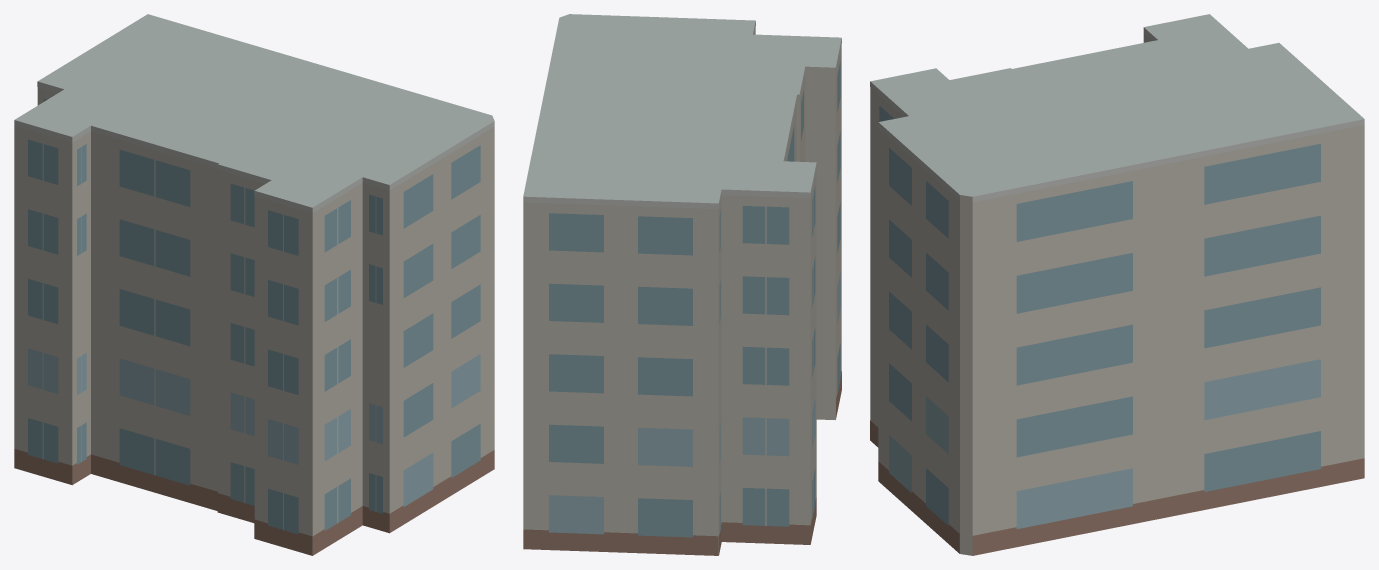
The model's file is survey-upis-32613631.glb.
The picture shows the model from 3 angles, left to right: view 1: azimuth 30°, elevation 25°; view 2: azimuth 150°, elevation 25°; view 3: azimuth 270°, elevation 25°; orthographic projection. The views are drawn at different scales.
Visible parts, largest first — view 1: survey-upis-32613631.tmp; view 2: survey-upis-32613631.tmp; view 3: survey-upis-32613631.tmp.
Boxes of the visible parts, x1,y1,x2,y2 form: survey-upis-32613631.tmp: (14, 14, 494, 555); survey-upis-32613631.tmp: (523, 14, 841, 555); survey-upis-32613631.tmp: (870, 14, 1364, 555).
Size of the model in its own units: 16.66 by 15.25 by 19.04.
